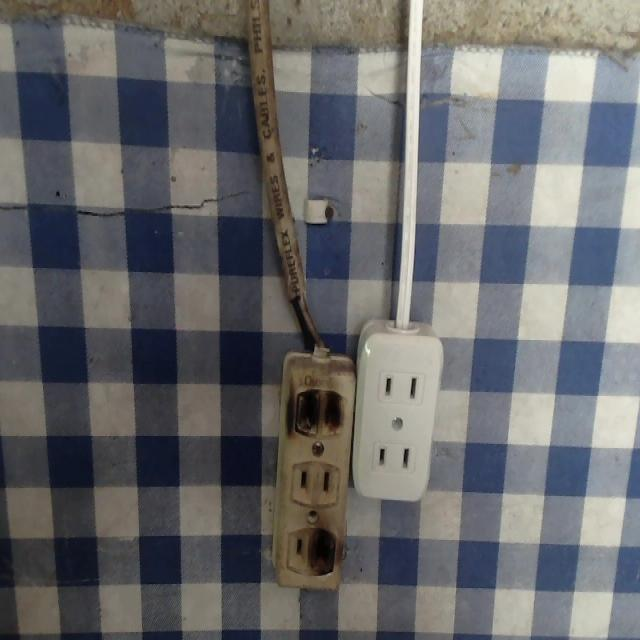-: (291, 381, 345, 444), (304, 525, 337, 579)
